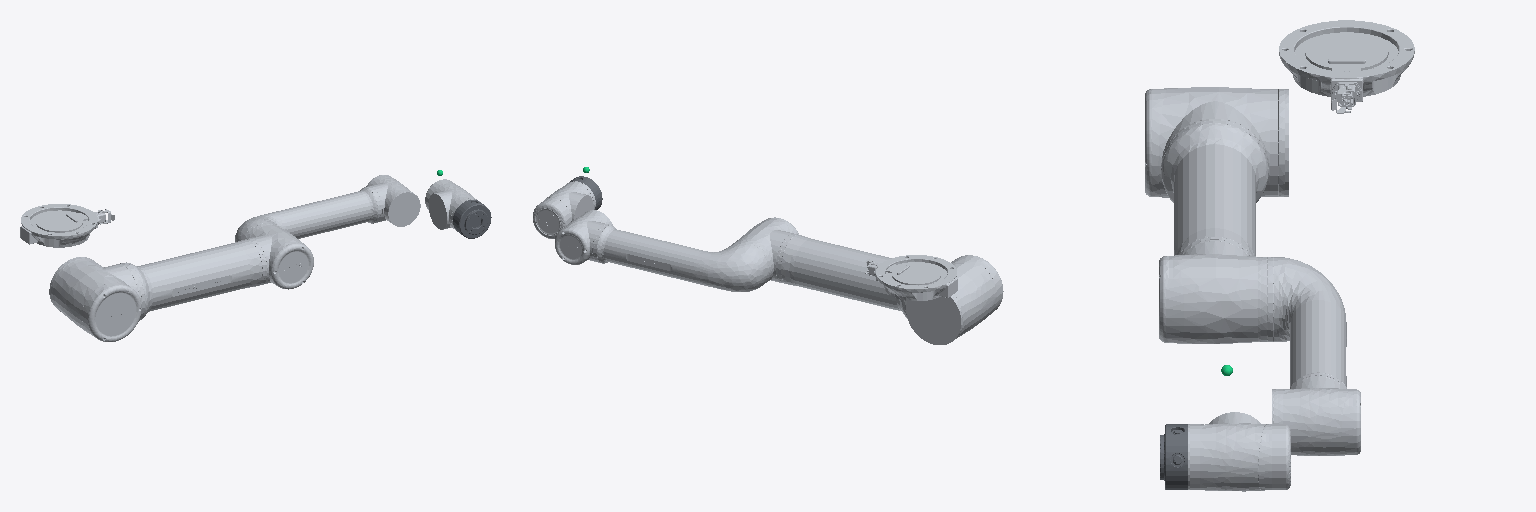
The robot description file, URDF, robot "jaka_zu18_real":
<?xml version="1.0" encoding="utf-8"?>
<robot name="jaka_zu18_real">
  <!-- JAKA zu18 — 真机 CAD（厂商官网 STEP，build_vendor_urdf.py 生成，coord=y_up_mm）。几何为真实外形，运动学（轴/限位）复用程序化 URDF。 -->
  <link name="base_link">
    <visual>
      <origin xyz="0 0 0" rpy="0 0 0"/>
      <geometry><mesh filename="meshes_real/base_link.stl"/></geometry>
      <material name="base_link_m"><color rgba="0.80 0.82 0.85 1"/></material>
    </visual>
    <collision>
      <origin xyz="0 0 0" rpy="0 0 0"/>
      <geometry><mesh filename="meshes_real/base_link.stl"/></geometry>
    </collision>
  </link>
  <link name="link_1">
    <visual>
      <origin xyz="0 0 0" rpy="0 0 0"/>
      <geometry><mesh filename="meshes_real/link_1.stl"/></geometry>
      <material name="link_1_m"><color rgba="0.80 0.82 0.85 1"/></material>
    </visual>
    <collision>
      <origin xyz="0 0 0" rpy="0 0 0"/>
      <geometry><mesh filename="meshes_real/link_1.stl"/></geometry>
    </collision>
  </link>
  <link name="link_2">
    <visual>
      <origin xyz="0 0 0" rpy="0 0 0"/>
      <geometry><mesh filename="meshes_real/link_2.stl"/></geometry>
      <material name="link_2_m"><color rgba="0.80 0.82 0.85 1"/></material>
    </visual>
    <collision>
      <origin xyz="0 0 0" rpy="0 0 0"/>
      <geometry><mesh filename="meshes_real/link_2.stl"/></geometry>
    </collision>
  </link>
  <link name="link_3">
    <visual>
      <origin xyz="0 0 0" rpy="0 0 0"/>
      <geometry><mesh filename="meshes_real/link_3.stl"/></geometry>
      <material name="link_3_m"><color rgba="0.80 0.82 0.85 1"/></material>
    </visual>
    <collision>
      <origin xyz="0 0 0" rpy="0 0 0"/>
      <geometry><mesh filename="meshes_real/link_3.stl"/></geometry>
    </collision>
  </link>
  <link name="link_4">
    <visual>
      <origin xyz="0 0 0" rpy="0 0 0"/>
      <geometry><mesh filename="meshes_real/link_4.stl"/></geometry>
      <material name="link_4_m"><color rgba="0.80 0.82 0.85 1"/></material>
    </visual>
    <collision>
      <origin xyz="0 0 0" rpy="0 0 0"/>
      <geometry><mesh filename="meshes_real/link_4.stl"/></geometry>
    </collision>
  </link>
  <link name="link_5">
    <visual>
      <origin xyz="0 0 0" rpy="0 0 0"/>
      <geometry><mesh filename="meshes_real/link_5.stl"/></geometry>
      <material name="link_5_m"><color rgba="0.80 0.82 0.85 1"/></material>
    </visual>
    <collision>
      <origin xyz="0 0 0" rpy="0 0 0"/>
      <geometry><mesh filename="meshes_real/link_5.stl"/></geometry>
    </collision>
  </link>
  <link name="tool0">
    <visual>
      <origin xyz="0 0 0" rpy="0 0 0"/>
      <geometry><mesh filename="meshes_real/tool0.stl"/></geometry>
      <material name="tool0_m"><color rgba="0.80 0.82 0.85 1"/></material>
    </visual>
    <visual>
      <origin xyz="0 0 0" rpy="0 0 0"/>
      <geometry><mesh filename="meshes_real/tool0_extra0.stl"/></geometry>
      <material name="tool0_ex0"><color rgba="0.45 0.47 0.50 1"/></material>
    </visual>
    <collision>
      <origin xyz="0 0 0" rpy="0 0 0"/>
      <geometry><mesh filename="meshes_real/tool0.stl"/></geometry>
    </collision>
  </link>
  <link name="tcp">
    <visual>
      <origin xyz="0 0 0" rpy="0 0 0"/>
      <geometry><sphere radius="0.008"/></geometry>
      <material name="tcp_m"><color rgba="0.15 0.85 0.55 1"/></material>
    </visual>
  </link>
  <joint name="joint_1" type="revolute">
    <parent link="base_link"/>
    <child link="link_1"/>
    <origin xyz="0.0739831 0.0015811 -0.04" rpy="0 0 0"/>
    <axis xyz="0 0 1"/>
    <limit lower="-6.28318" upper="6.28318" effort="148" velocity="2.0944"/>
  </joint>
  <joint name="joint_2" type="revolute">
    <parent link="link_1"/>
    <child link="link_2"/>
    <origin xyz="-0.0755642 -0.0805811 -0.176633" rpy="0 0 0"/>
    <axis xyz="0 1 0"/>
    <limit lower="-1.48353" upper="4.62512" effort="148" velocity="2.0944"/>
  </joint>
  <joint name="joint_3" type="revolute">
    <parent link="link_2"/>
    <child link="link_3"/>
    <origin xyz="0.452582 -0.0219983 0.0739831" rpy="0 0 0"/>
    <axis xyz="0 1 0"/>
    <limit lower="-3.05433" upper="3.05433" effort="148" velocity="3.14159"/>
  </joint>
  <joint name="joint_4" type="revolute">
    <parent link="link_3"/>
    <child link="link_4"/>
    <origin xyz="0.408499 0.01683 -0.00548442" rpy="0 0 0"/>
    <axis xyz="0 0 1"/>
    <limit lower="-1.48353" upper="4.62512" effort="148" velocity="3.14159"/>
  </joint>
  <joint name="joint_5" type="revolute">
    <parent link="link_4"/>
    <child link="link_5"/>
    <origin xyz="0.0293551 -0.0193317 -0.0348038" rpy="0 0 0"/>
    <axis xyz="0 1 0"/>
    <limit lower="-6.28318" upper="6.28318" effort="148" velocity="3.14159"/>
  </joint>
  <joint name="joint_6" type="revolute">
    <parent link="link_5"/>
    <child link="tool0"/>
    <origin xyz="0.0856449 -0.0613889 0.0844661" rpy="0 0 0"/>
    <axis xyz="0 0 1"/>
    <limit lower="-6.28318" upper="6.28318" effort="148" velocity="3.14159"/>
  </joint>
  <joint name="tcp_joint" type="fixed">
    <parent link="tool0"/>
    <child link="tcp"/>
    <origin xyz="0 0 0.06438" rpy="0 0 0"/>
  </joint>
</robot>

--- What the picture shows (computed from the rendered views, not written in the file) ---
3 views of the same robot in one strip: view 1: azimuth 30°, elevation 25°; view 2: azimuth 150°, elevation 25°; view 3: azimuth 270°, elevation 25° (orthographic).
Robot: jaka_zu18_real — 8 links, 7 joints (6 revolute, 1 fixed); root link base_link; default pose: all joints at 0.
Links seen in each view (by area): view 1: link_2, link_3, base_link, tool0, link_4; view 2: link_2, link_3, base_link, tool0, link_4; view 3: link_2, tool0, base_link, link_3, link_4.
Boxes of the visible links, x1,y1,x2,y2 form: link_2: [49, 222, 313, 341]; link_3: [235, 186, 381, 241]; base_link: [20, 204, 114, 247]; tool0: [425, 179, 491, 238]; link_4: [366, 175, 420, 226]; link_2: [733, 217, 1003, 344]; link_3: [592, 224, 768, 291]; base_link: [865, 255, 957, 300]; tool0: [533, 176, 602, 238]; link_4: [555, 210, 612, 264]; link_2: [1145, 87, 1288, 343]; tool0: [1160, 412, 1290, 491]; base_link: [1279, 20, 1414, 113]; link_3: [1273, 257, 1346, 388]; link_4: [1272, 377, 1360, 455].
Size in the robot's own frame: 1.17 by 0.3721 by 0.2201 metres.
6 mesh visuals loaded from 8 distinct referenced files (6 binary STL); not drawn: 2 (reference not matched to a file when rendering).
